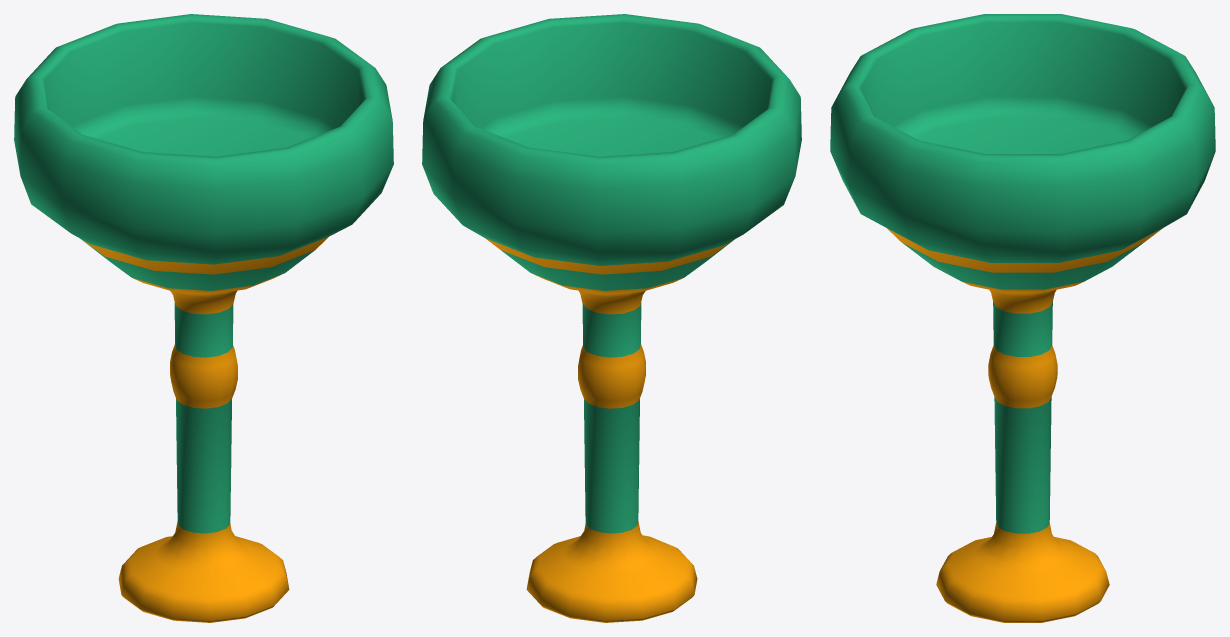
Rendered from Cup.fbx.
3 views of the same model, side by side, from view 1: azimuth 30°, elevation 25°; view 2: azimuth 150°, elevation 25°; view 3: azimuth 270°, elevation 25° (orthographic).
Visible parts, largest first — view 1: Cup; view 2: Cup; view 3: Cup.
Boxes of the visible parts, x1,y1,x2,y2 form: Cup: [14, 14, 393, 622]; Cup: [422, 14, 801, 622]; Cup: [830, 14, 1215, 622].
Size of the model in its own units: 1.72 by 2.53 by 1.76.
